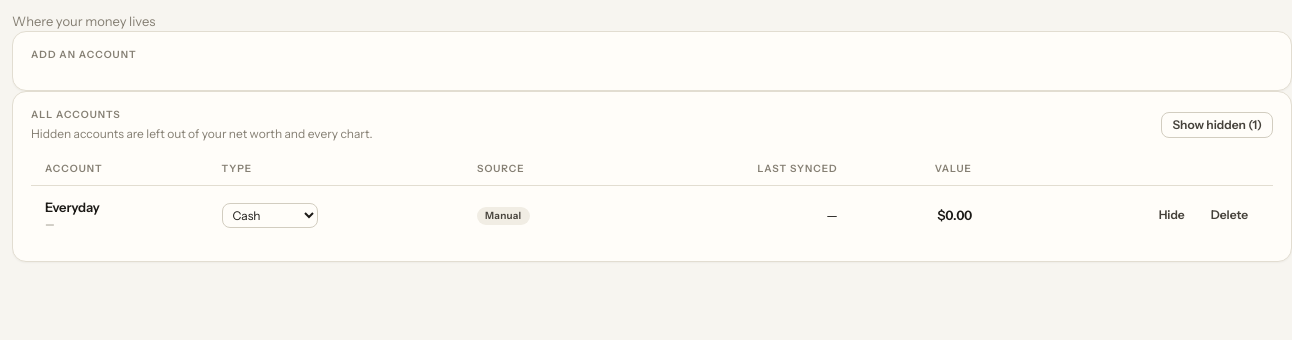
Test: Accounts screen — hiding › reveals hidden accounts when asked
The width and height of the screenshot is (1292, 340).
Click the button "Show hidden (1)": (1217, 125) [1161,112,1273,138]
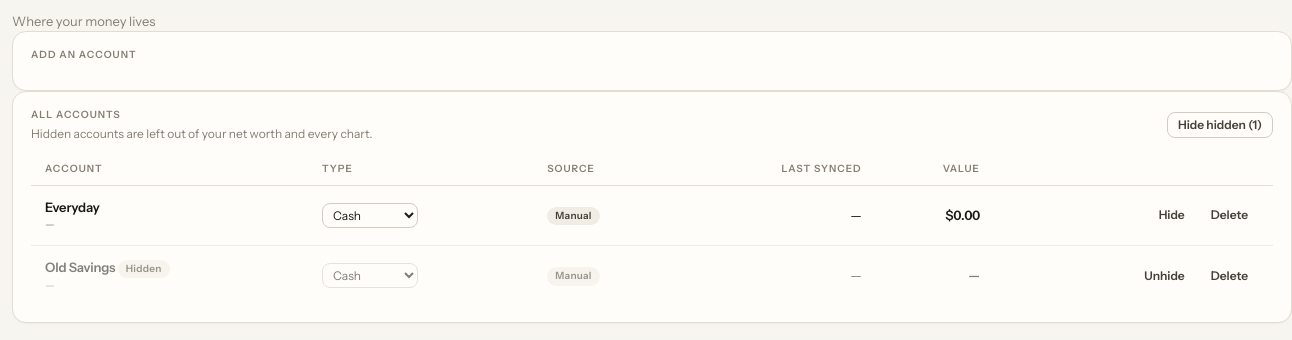
Expected: the text "Old Savings" is shown, [45,258,115,274]
